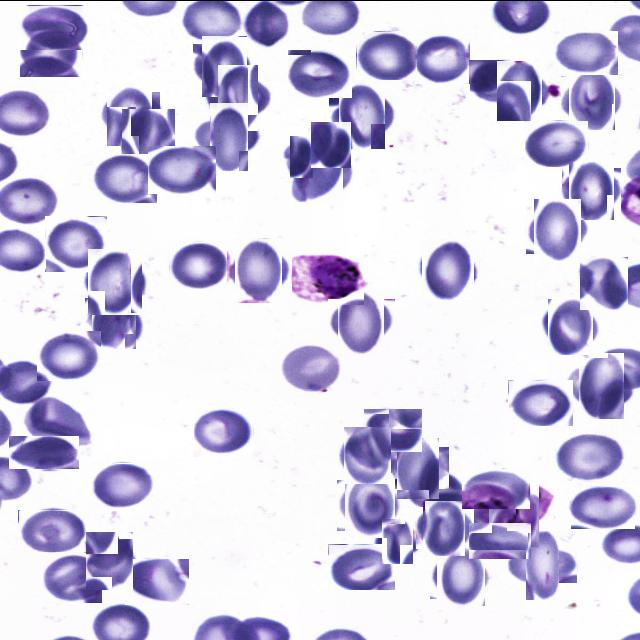difficult: (482, 474, 546, 538)
red blood cell: (23, 395, 94, 448), (86, 250, 146, 312), (286, 138, 346, 198), (45, 215, 107, 271), (230, 241, 288, 298), (341, 476, 398, 534), (557, 433, 627, 480), (148, 145, 216, 193), (334, 86, 390, 144), (280, 342, 342, 394), (37, 330, 101, 380), (420, 240, 477, 296), (334, 292, 389, 350), (287, 48, 352, 97), (90, 462, 156, 510), (94, 153, 157, 202), (328, 544, 395, 590), (573, 358, 629, 413), (434, 546, 489, 602), (20, 4, 88, 49), (20, 27, 82, 76), (524, 119, 588, 166), (508, 379, 573, 425), (356, 30, 417, 79), (414, 32, 472, 83), (43, 552, 102, 602), (125, 558, 189, 604), (565, 72, 619, 126), (198, 38, 252, 92), (102, 87, 156, 141), (211, 70, 265, 124), (121, 108, 175, 162), (530, 202, 584, 256), (82, 533, 136, 587), (18, 509, 87, 551), (202, 109, 256, 162), (194, 408, 253, 456), (554, 30, 618, 74), (493, 63, 546, 116), (566, 163, 618, 216), (342, 428, 394, 481), (169, 241, 227, 288), (462, 468, 530, 508), (88, 293, 140, 345), (516, 539, 568, 591), (392, 441, 444, 493), (571, 486, 635, 528), (579, 255, 628, 309), (545, 300, 596, 351), (363, 407, 422, 451), (470, 59, 530, 101), (419, 502, 468, 552), (407, 469, 464, 511), (9, 436, 79, 470), (468, 521, 531, 558), (310, 122, 354, 166), (379, 522, 417, 560)
trophozoite: (283, 251, 364, 304)
